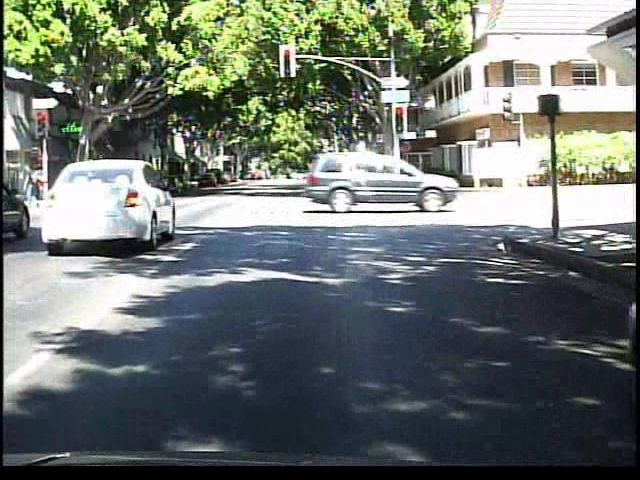person: (25, 163, 53, 206)
